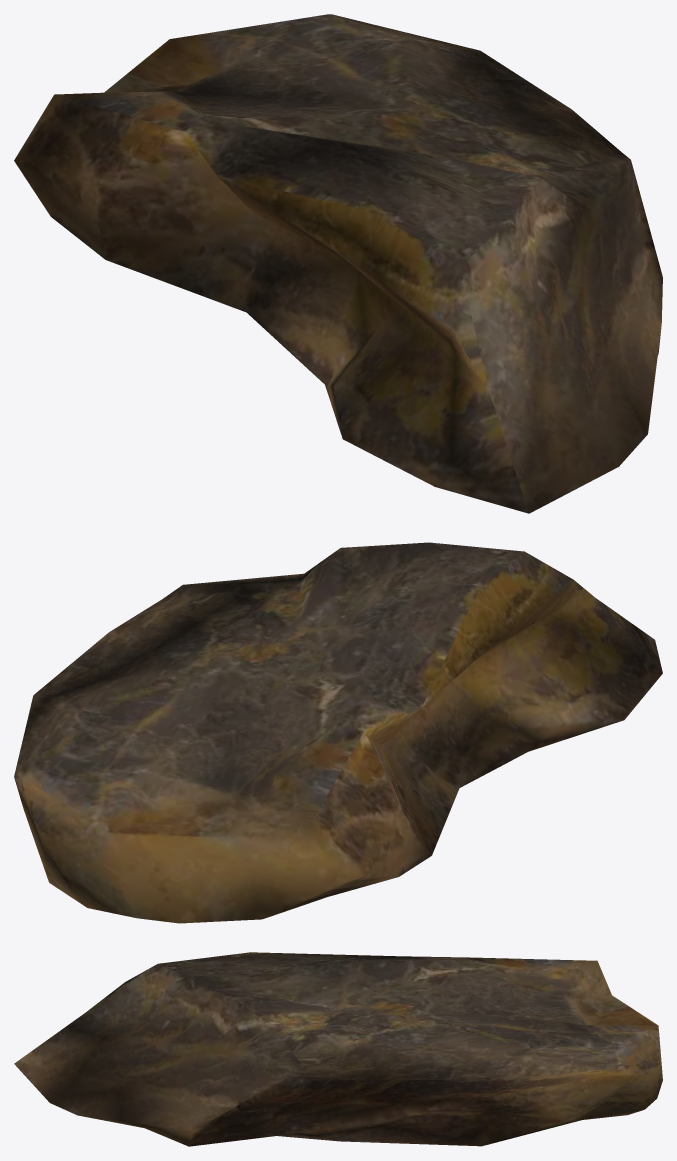
File: rock_09.glb
3 views of the same model, one above another, from view 1: azimuth 30°, elevation 25°; view 2: azimuth 150°, elevation 25°; view 3: azimuth 270°, elevation 25° (orthographic). The views are drawn at different scales.
Parts seen in each view (by area): view 1: rock_09_LOD0; view 2: rock_09_LOD0; view 3: rock_09_LOD0.
Boxes of the visible parts, x1,y1,x2,y2 form: rock_09_LOD0: (14, 14, 662, 513); rock_09_LOD0: (14, 542, 662, 923); rock_09_LOD0: (14, 952, 662, 1146).
Size of the model in its own units: 0.073 by 0.0304 by 0.1427.
Materials: 1 (1 with a texture image).
